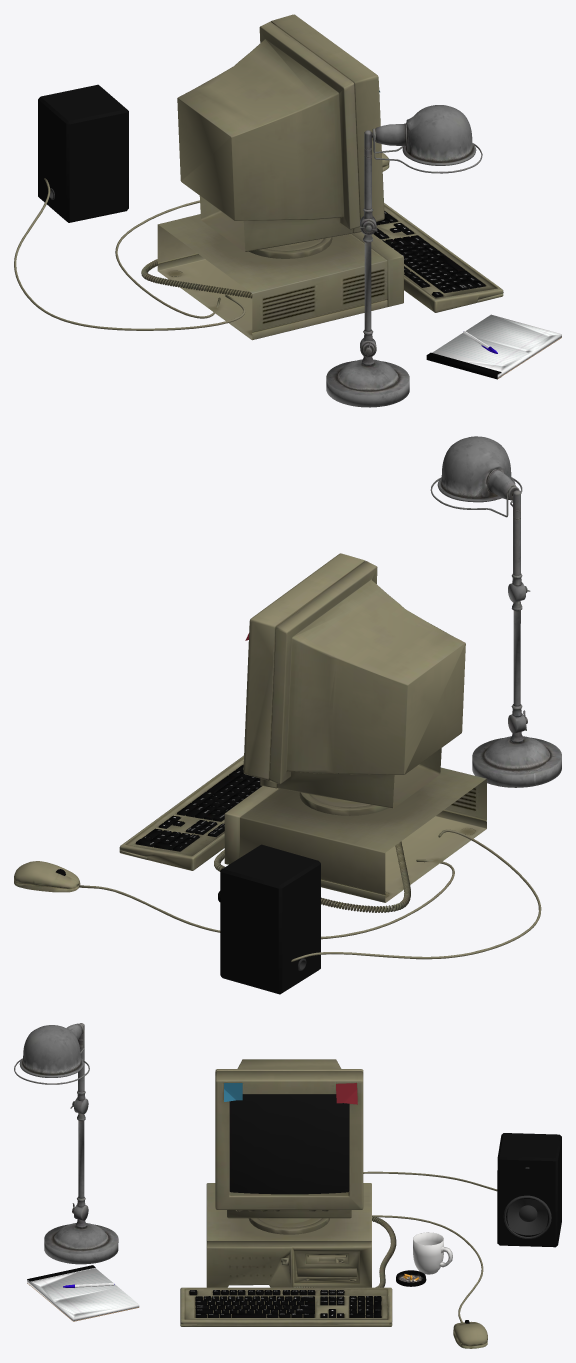
Rendered from computer.glb.
The picture shows the model from 3 angles, top to bottom: view 1: azimuth 30°, elevation 25°; view 2: azimuth 150°, elevation 25°; view 3: azimuth 270°, elevation 25°; orthographic projection. The views are drawn at different scales.
Parts seen in each view (by area): view 1: Body, Speaker, Lamp, Notes; view 2: Body, Speaker, Lamp; view 3: Body, ScreenMesh, Speaker, Lamp, Notes, Mug, Note.01, Cylinder_0.
Part boxes in pixels (left/top/right/bottom): Body: left=115, top=14, right=503, bottom=340; Speaker: left=14, top=84, right=245, bottom=330; Lamp: left=326, top=105, right=482, bottom=407; Notes: left=426, top=314, right=561, bottom=379; Body: left=14, top=553, right=486, bottom=939; Speaker: left=220, top=829, right=541, bottom=994; Lamp: left=430, top=436, right=561, bottom=787; Body: left=180, top=1059, right=487, bottom=1348; ScreenMesh: left=229, top=1094, right=349, bottom=1194; Speaker: left=363, top=1133, right=561, bottom=1247; Lamp: left=14, top=1023, right=118, bottom=1264; Notes: left=27, top=1265, right=139, bottom=1321; Mug: left=413, top=1232, right=452, bottom=1274; Note.01: left=336, top=1083, right=357, bottom=1104; Cylinder_0: left=396, top=1270, right=426, bottom=1286.
Bounding box in the file's own units: 0.1062 × 0.0694 × 0.1406.
20 materials, 7 textured.
